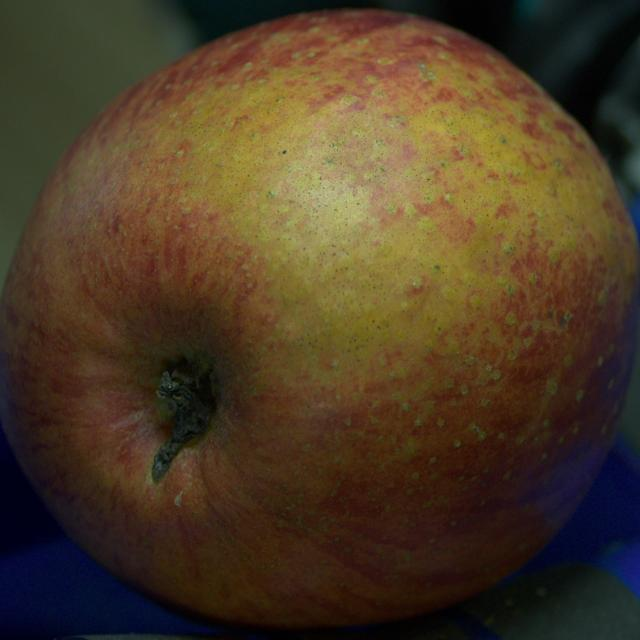apple: (0, 9, 639, 628)
